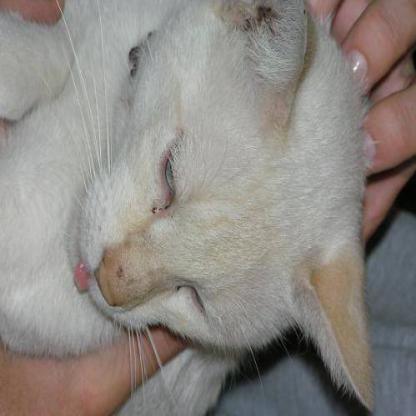cat: (72, 46, 358, 366)
